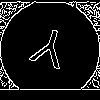Y: (25, 25, 71, 79)
